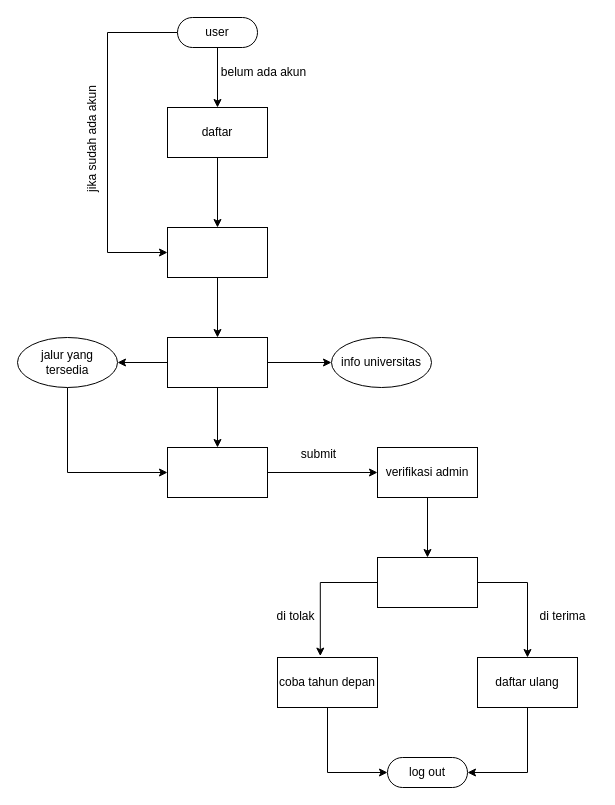
This 615x805 diagram has some shape labels left out. The shapes that lost their labels are listed below. From the top down, each one's centre as x and y in pixels, then its label:
At point (217, 252): "login".
At point (217, 362): "dashboard".
At point (217, 472): "formulir pendaftaran".
At point (427, 582): "Pengumuman".
